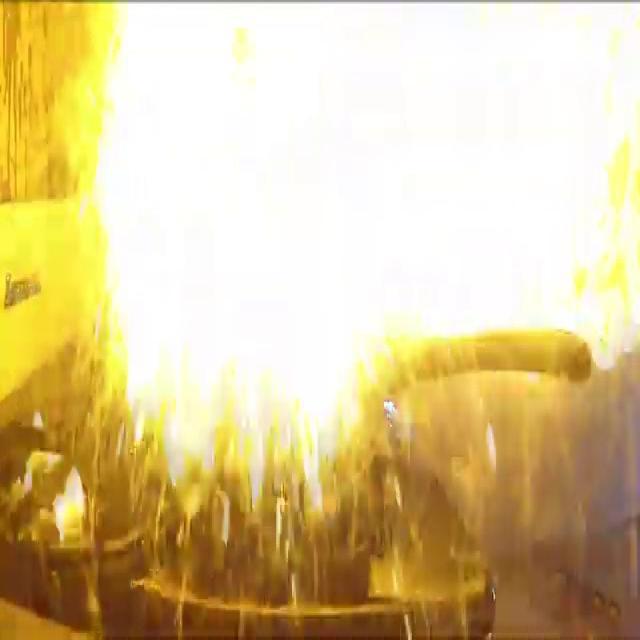fire: (93, 0, 640, 526)
